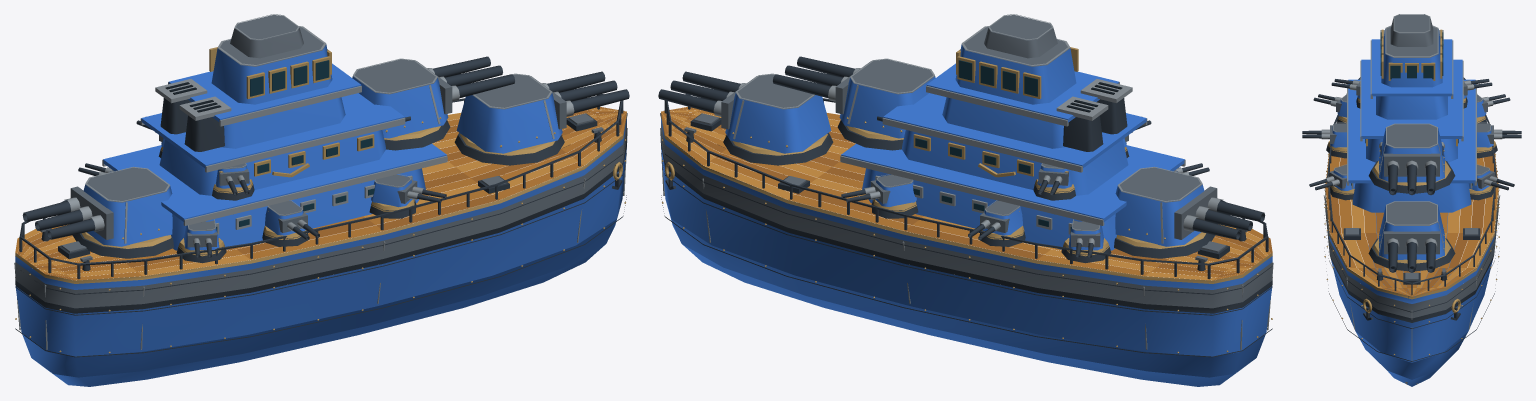
3 views of the same model, side by side, from view 1: azimuth 30°, elevation 25°; view 2: azimuth 150°, elevation 25°; view 3: azimuth 270°, elevation 25° (orthographic). The views are drawn at different scales.
Parts seen in each view (by area): view 1: 超级战舰, object 2, object 8, object 5, object 6, object 9, object 3, object 23; view 2: 超级战舰, object 2, object 8, object 5, object 6, object 9, object 3, object 11; view 3: 超级战舰, object 6, object 3, object 5, object 2, object 14, object 26.
Part boxes in pixels (x1,y1,x2,y2): 超级战舰: [14, 14, 629, 386]; object 2: [456, 93, 562, 153]; object 8: [83, 184, 172, 246]; object 5: [352, 76, 448, 138]; object 6: [353, 59, 437, 94]; object 9: [85, 167, 169, 202]; object 3: [472, 74, 551, 109]; object 23: [371, 180, 412, 207]; 超级战舰: [658, 14, 1273, 386]; object 2: [725, 93, 831, 153]; object 8: [1115, 184, 1204, 246]; object 5: [839, 76, 935, 138]; object 6: [850, 59, 934, 94]; object 9: [1118, 167, 1202, 202]; object 3: [736, 74, 815, 109]; object 11: [875, 180, 916, 207]; 超级战舰: [1302, 14, 1521, 386]; object 6: [1386, 124, 1437, 148]; object 3: [1386, 202, 1437, 225]; object 5: [1379, 128, 1444, 182]; object 2: [1379, 206, 1444, 259]; object 14: [1477, 126, 1493, 147]; object 26: [1330, 126, 1346, 147].
Size of the model in its own units: 3 by 1.45 by 1.21.
